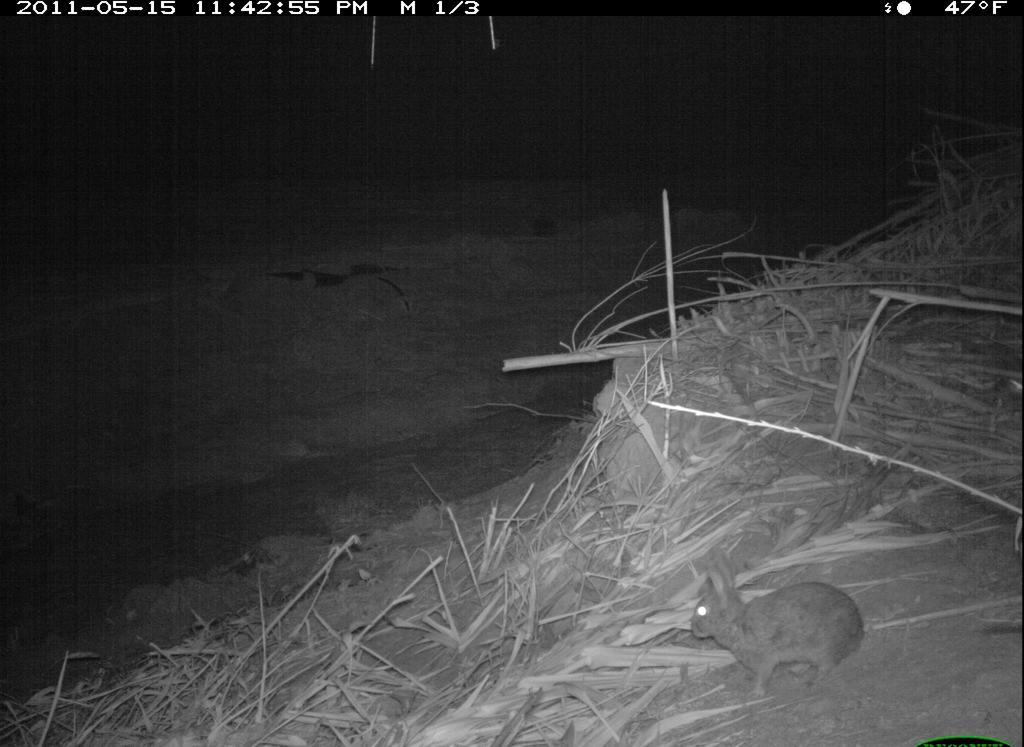rabbit: (688, 545, 872, 697)
